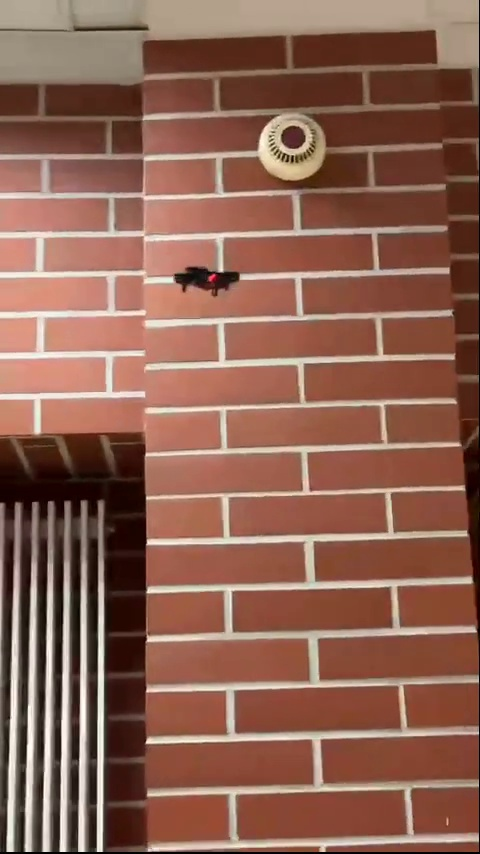drone: (174, 263, 243, 296)
